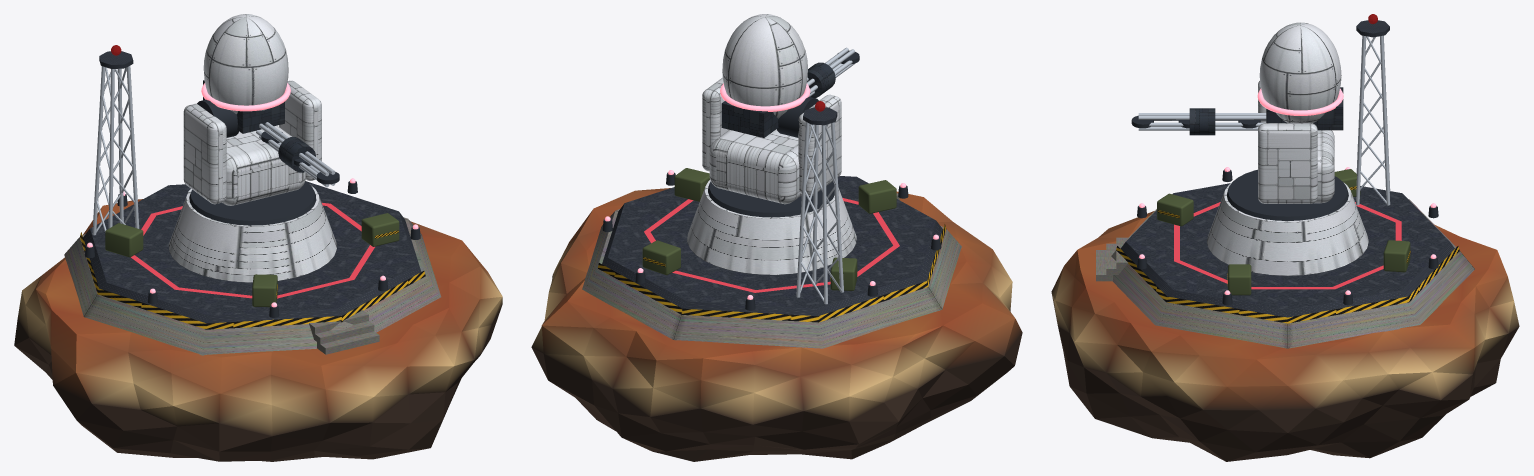
Rendered from ciws-L75.glb.
3 views of the same model, side by side, from view 1: azimuth 30°, elevation 25°; view 2: azimuth 150°, elevation 25°; view 3: azimuth 270°, elevation 25° (orthographic). The views are drawn at different scales.
Parts seen in each view (by area): view 1: object 1, object 4, object 2, anim:yaw, object 25, anim:pitch, object 26, object 3, object 5, anim:spin, object 31, object 27 (+5 smaller); view 2: object 1, object 4, object 2, anim:pitch, anim:yaw, object 25, object 3, object 26, object 5, object 29, object 33, object 27 (+3 smaller); view 3: object 1, object 4, object 2, object 25, anim:pitch, anim:yaw, object 26, object 3, anim:spin, object 5, object 29, object 33 (+1 smaller).
Boxes of the visible parts, x1,y1,x2,y2 form: object 1: (14, 199, 502, 461); object 4: (83, 181, 421, 323); object 2: (64, 217, 441, 355); anim:yaw: (183, 80, 321, 205); object 25: (168, 184, 336, 282); anim:pitch: (197, 14, 315, 172); object 26: (189, 181, 316, 225); object 3: (80, 232, 425, 329); object 5: (131, 202, 374, 298); anim:spin: (256, 122, 339, 187); object 31: (105, 223, 143, 257); object 27: (361, 213, 399, 246); object 1: (531, 188, 1022, 461); object 4: (602, 176, 942, 316); object 2: (582, 209, 961, 348); anim:pitch: (720, 14, 835, 137); anim:yaw: (702, 78, 841, 204); object 25: (687, 180, 856, 274); object 3: (597, 224, 946, 322); object 26: (708, 181, 834, 217); object 5: (644, 198, 899, 292); object 29: (858, 180, 896, 213); object 33: (642, 240, 680, 275); object 27: (674, 168, 709, 201); object 1: (1051, 211, 1519, 461); object 4: (1120, 183, 1454, 317); object 2: (1111, 199, 1474, 348); object 25: (1207, 182, 1368, 275); anim:pitch: (1189, 22, 1343, 135); anim:yaw: (1258, 81, 1334, 203); object 26: (1226, 169, 1348, 220); object 3: (1116, 246, 1459, 323); anim:spin: (1131, 113, 1266, 130); object 5: (1174, 202, 1401, 289); object 29: (1157, 193, 1193, 226); object 33: (1383, 240, 1410, 272).
Bounding box in the file's own units: 5.49 × 4.98 × 5.49.
Materials: 13 (6 with a texture image).
